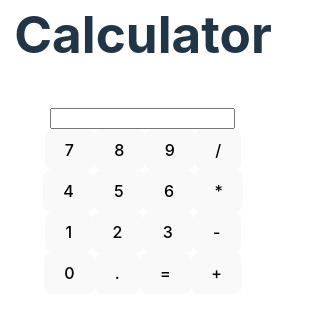
Test case: Calculator › should calculate user input and show the calculation
Click the text "1" at (69,232), box [45,212,92,253]
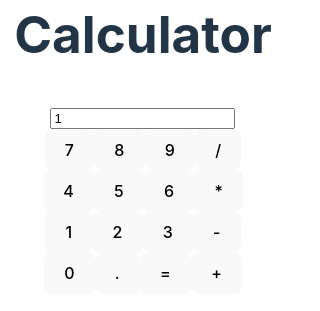
Click the text "+" at (217,273), box [191,253,242,294]
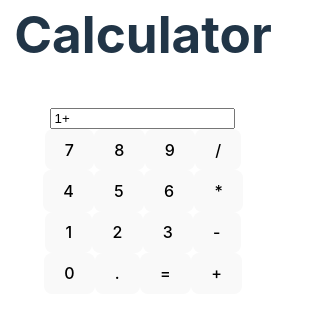
Click the text "2" at (117,232), box [92,212,142,253]
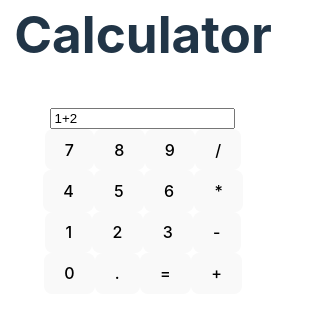
Click the text "=" at (165,273), box [140,253,191,294]
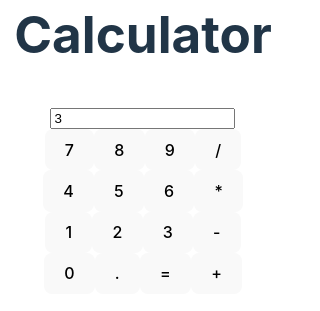
Expected: the field holds "3", [50,108,236,129]
